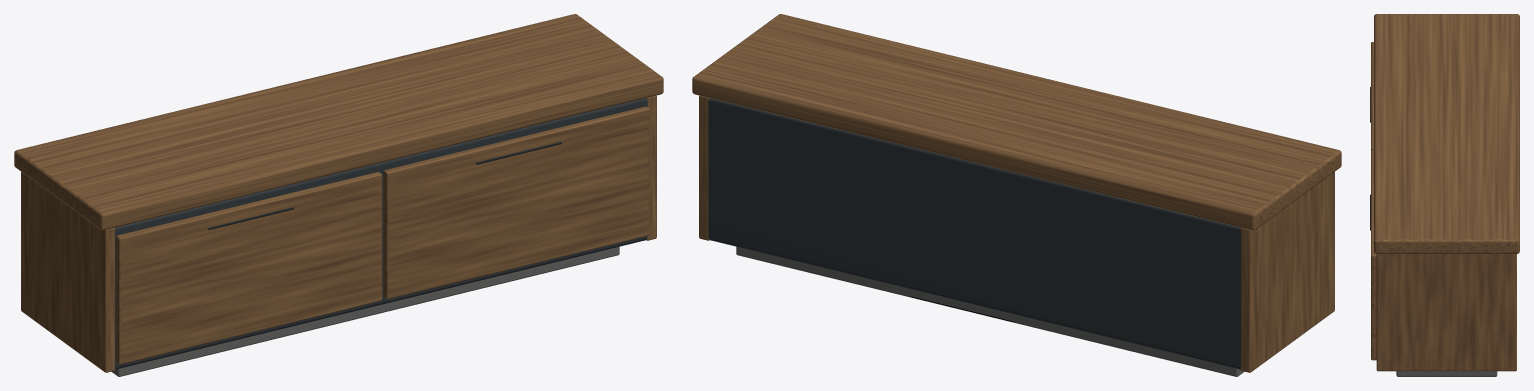
File: industrial_loft_low_cabinet.glb
3 renders of one model, left to right at view 1: azimuth 30°, elevation 25°; view 2: azimuth 150°, elevation 25°; view 3: azimuth 270°, elevation 25°, orthographic. The views are drawn at different scales.
Visible parts, largest first — view 1: low_cabinet.001; view 2: low_cabinet.001; view 3: low_cabinet.001.
Boxes of the visible parts, x1,y1,x2,y2 form: low_cabinet.001: [14, 14, 663, 376]; low_cabinet.001: [692, 14, 1341, 376]; low_cabinet.001: [1370, 14, 1519, 376].
Bounding box in the file's own units: 1.84 × 0.565 × 0.513.
Materials: 5 (5 with a texture image).
